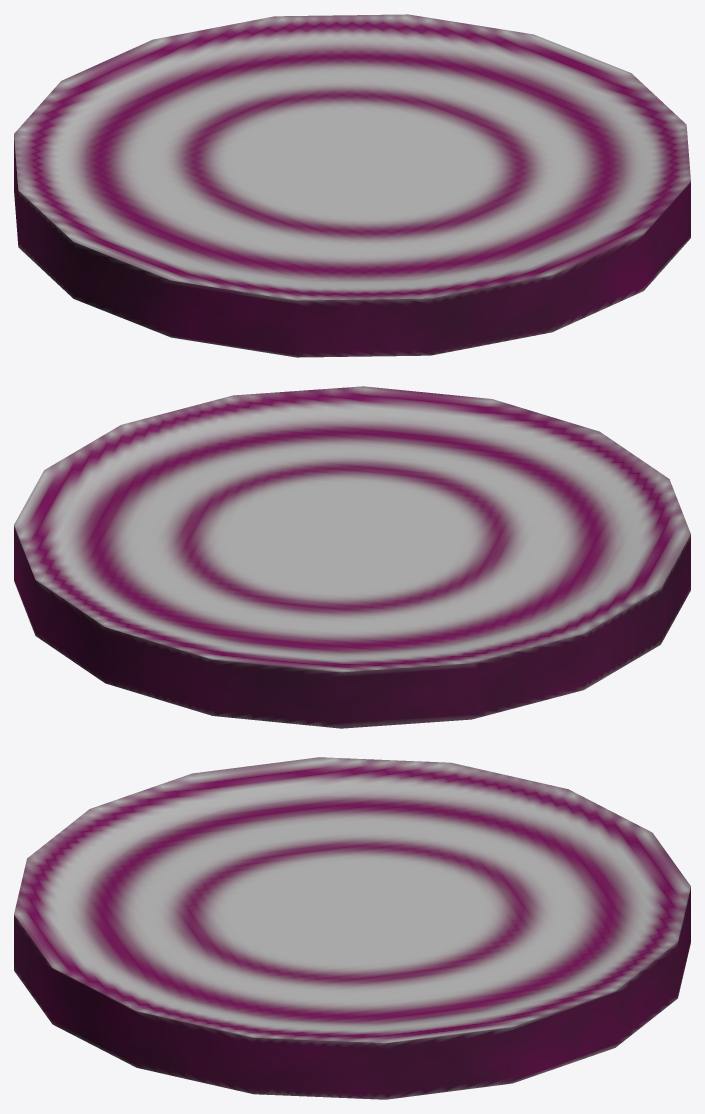
File: Onion_Burger.fbx
The picture shows the model from 3 angles, top to bottom: view 1: azimuth 30°, elevation 25°; view 2: azimuth 150°, elevation 25°; view 3: azimuth 270°, elevation 25°; orthographic projection.
Parts seen in each view (by area): view 1: Onion ring; view 2: Onion ring; view 3: Onion ring.
Boxes of the visible parts, x1=… form: Onion ring: x1=14, y1=14, x2=690, y2=357; Onion ring: x1=14, y1=386, x2=690, y2=728; Onion ring: x1=14, y1=757, x2=690, y2=1099.
Size of the model in its own units: 14.71 by 1.35 by 14.71.
